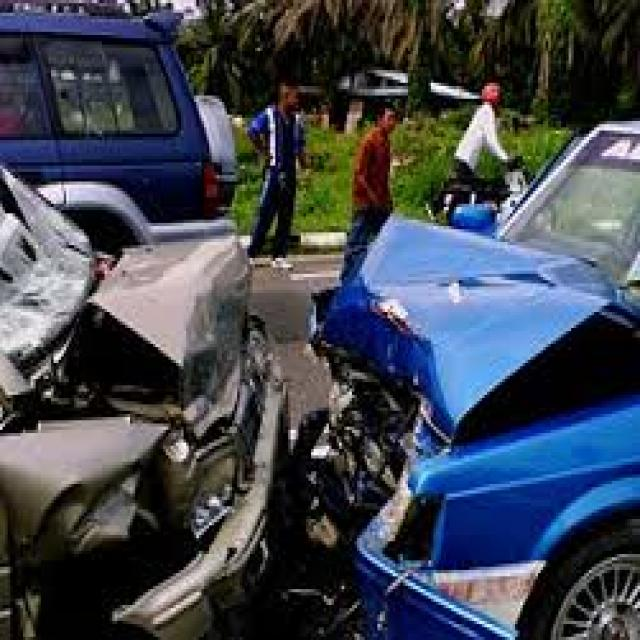accident: (2, 137, 638, 640)
